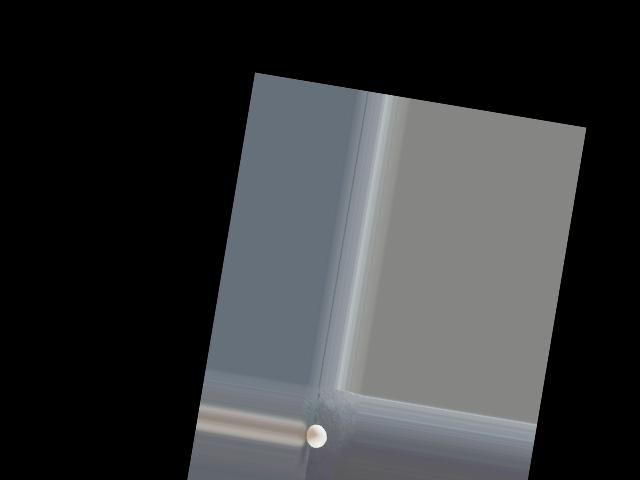egg: (304, 422, 329, 448)
